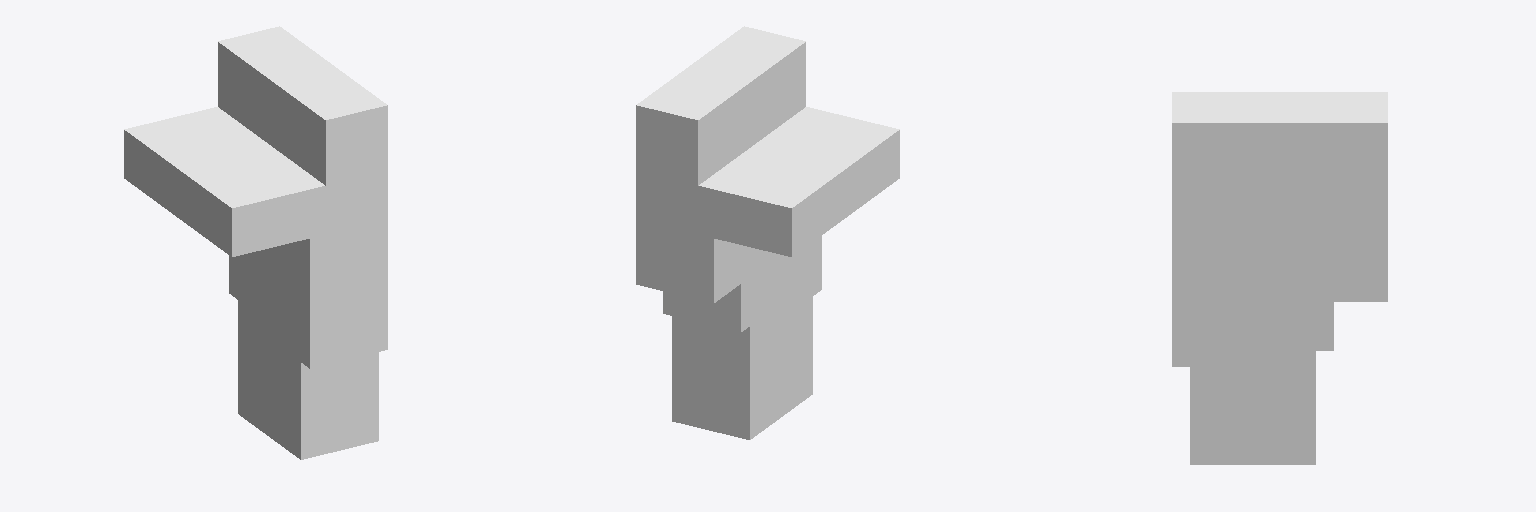
The picture shows the model from 3 angles: view 1: azimuth 30°, elevation 25°; view 2: azimuth 150°, elevation 25°; view 3: azimuth 270°, elevation 25°; orthographic projection.
Visible parts, largest first — view 1: _13; view 2: _13; view 3: _13.
Part boxes in pixels (left/top/right/bottom): _13: left=124, top=26, right=387, bottom=459; _13: left=636, top=26, right=899, bottom=439; _13: left=1172, top=92, right=1387, bottom=464.
Size of the model in its own units: 10 by 21 by 12.
1 materials, 1 textured.